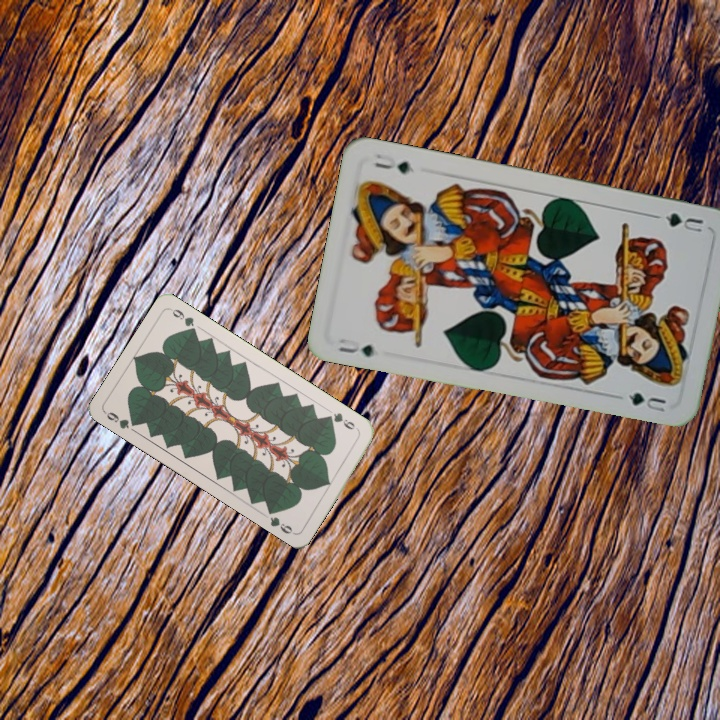G9: (323, 408, 362, 434), (101, 408, 141, 431)
GU: (651, 209, 706, 235), (334, 334, 377, 360)
